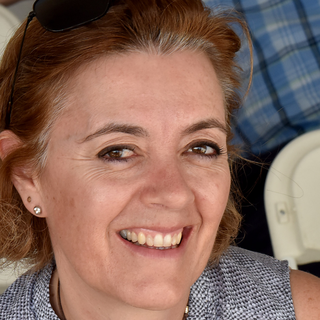eye: (93, 140, 143, 166), (179, 138, 223, 164)
